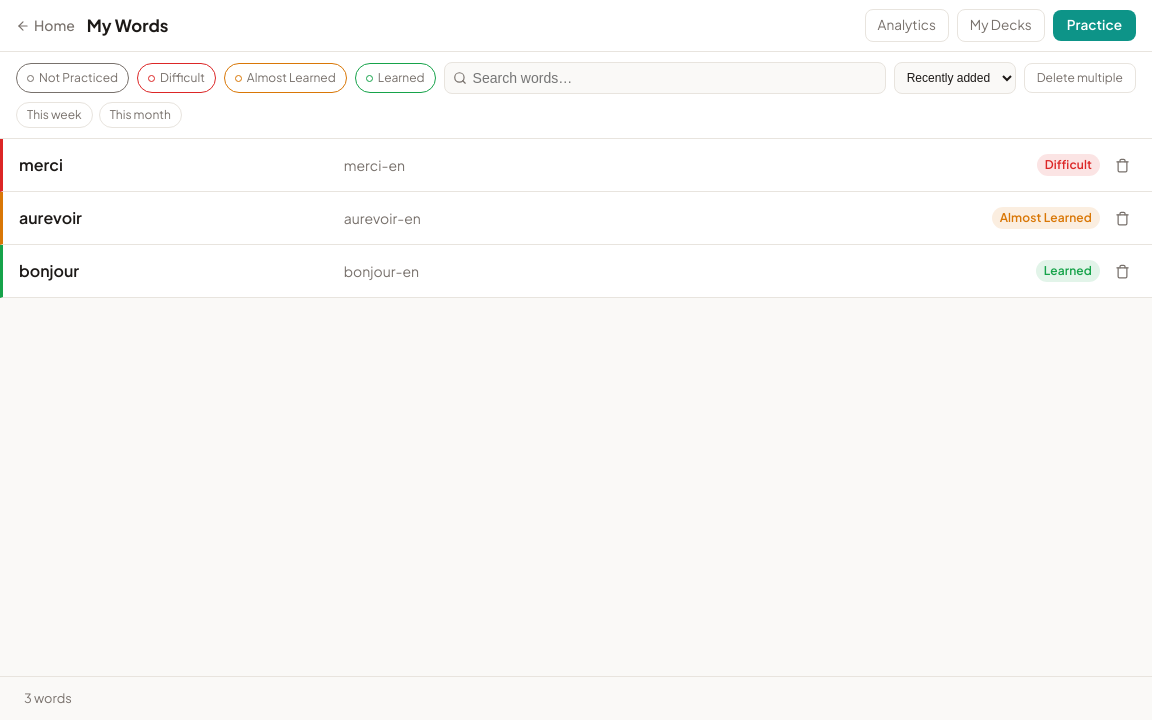
Flashcards — bulk selection › deselects a word that is clicked twice
Expected: the text "bonjour" is shown, [19, 260, 79, 281]
What coordinates should you click on to do the following:
click the button "Delete multiple"
I would click on:
 (1080, 78)
Its box is [1024, 63, 1136, 93].
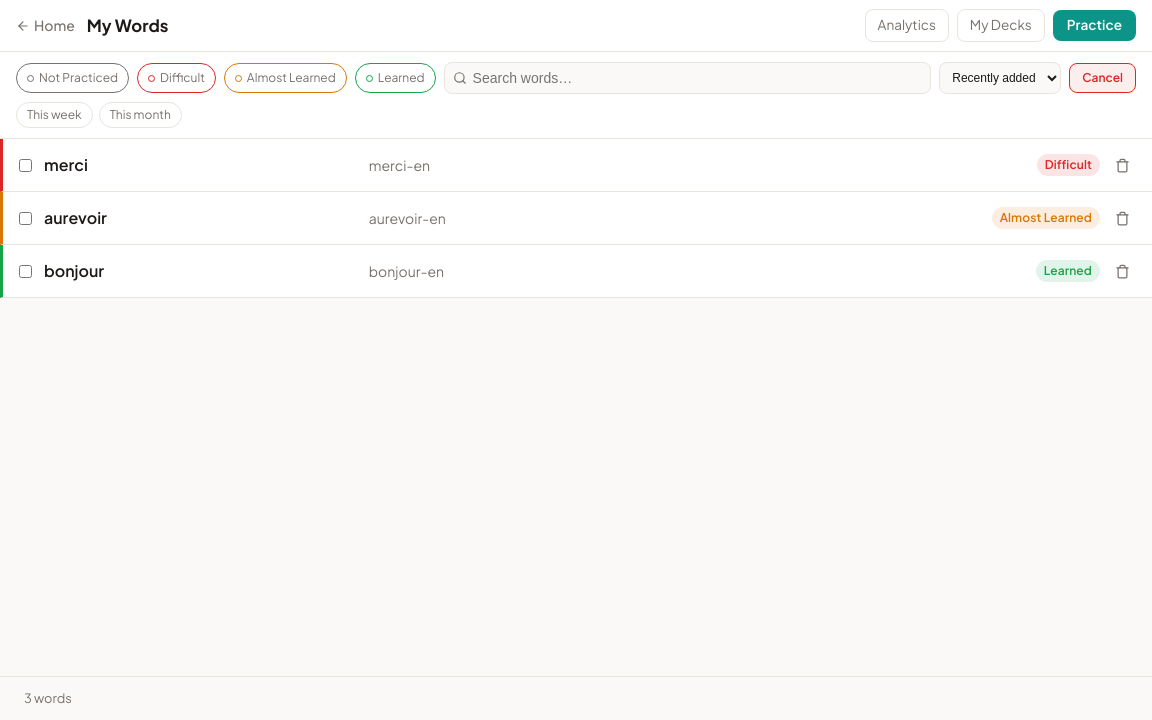
What coordinates should you click on to do the following:
click the checkbox named "Select bonjour"
I would click on:
 (26, 271)
Its box is [19, 264, 32, 278].
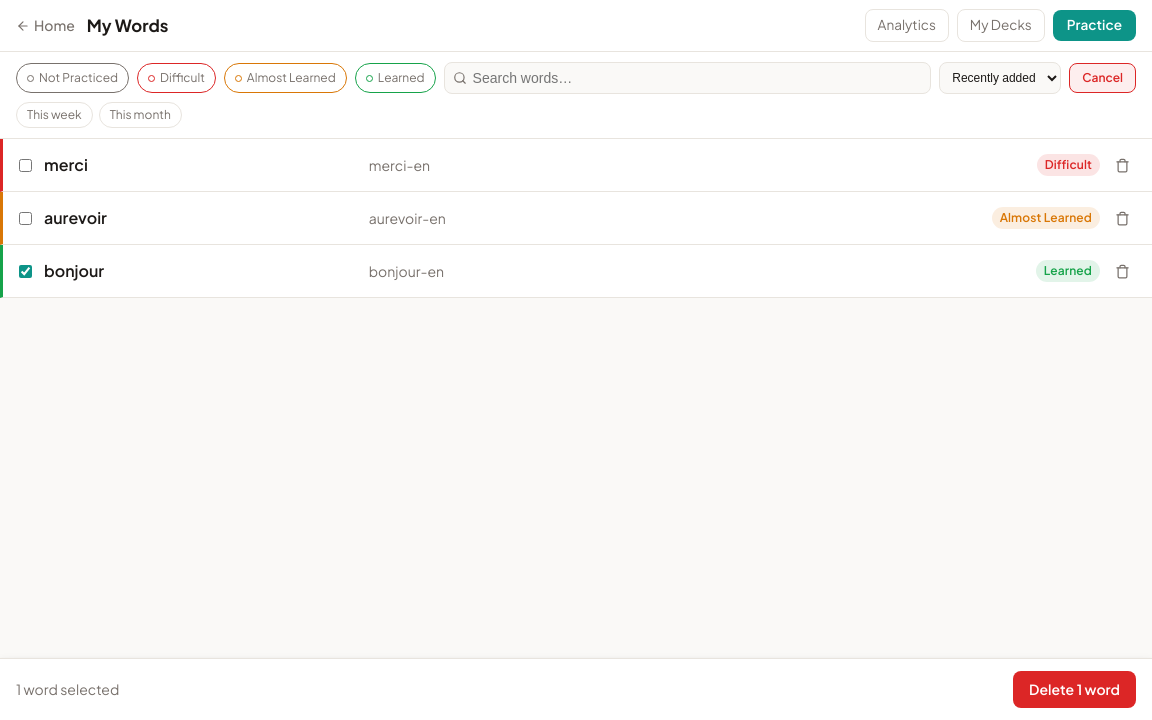
Expected: the text "1 word selected" is shown, [16, 679, 119, 700]
What coordinates should you click on to do the following:
click the checkbox named "Select bonjour"
I would click on:
 (26, 271)
Its box is [19, 264, 32, 278].
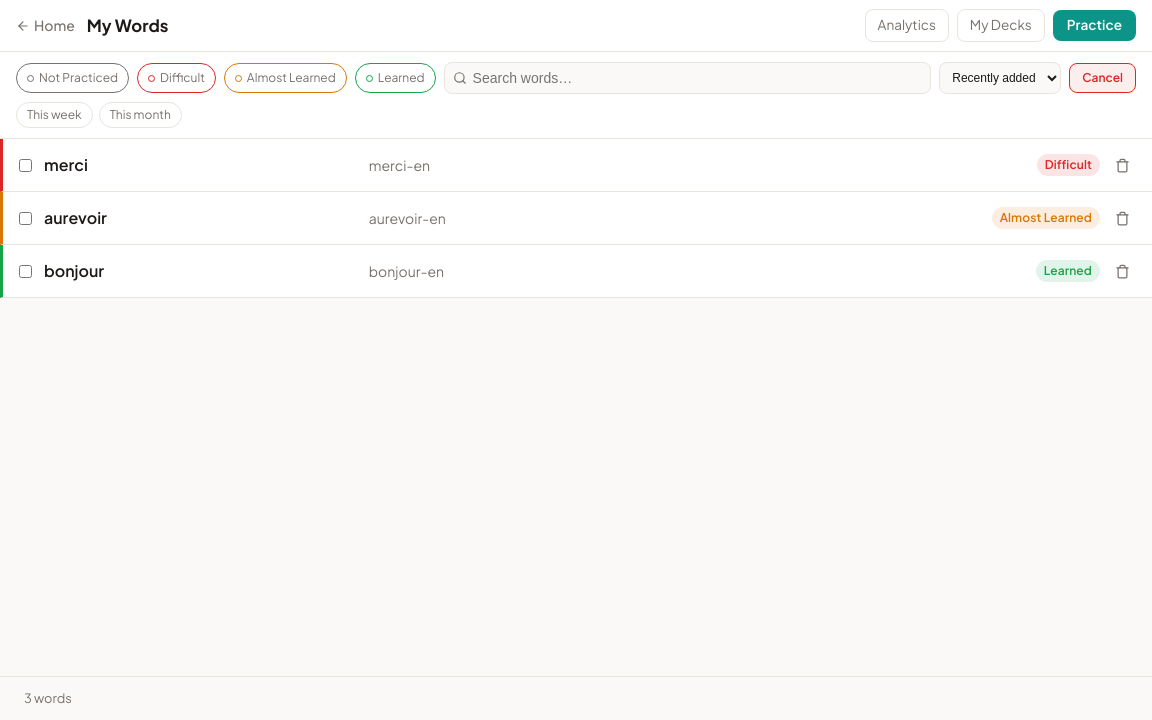
Expected: the text "1 word selected" is gone
